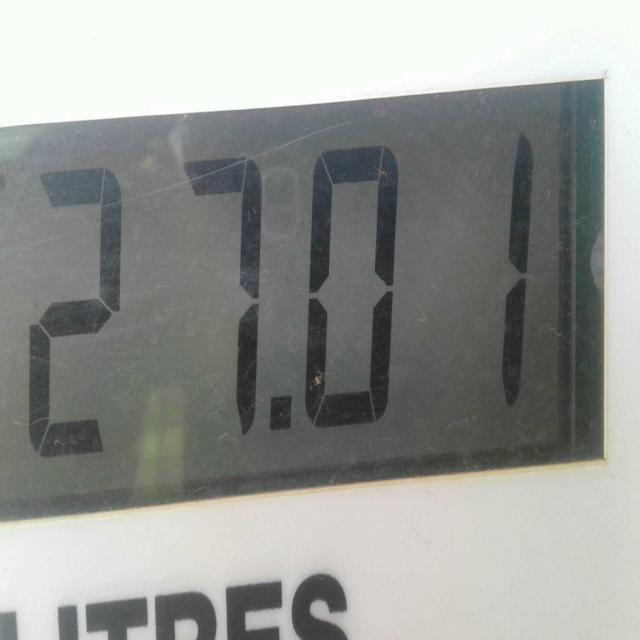.: (259, 373, 298, 461)
0: (296, 122, 418, 440)
1: (462, 111, 546, 450)
2: (18, 151, 144, 478)
7: (162, 152, 262, 434)
